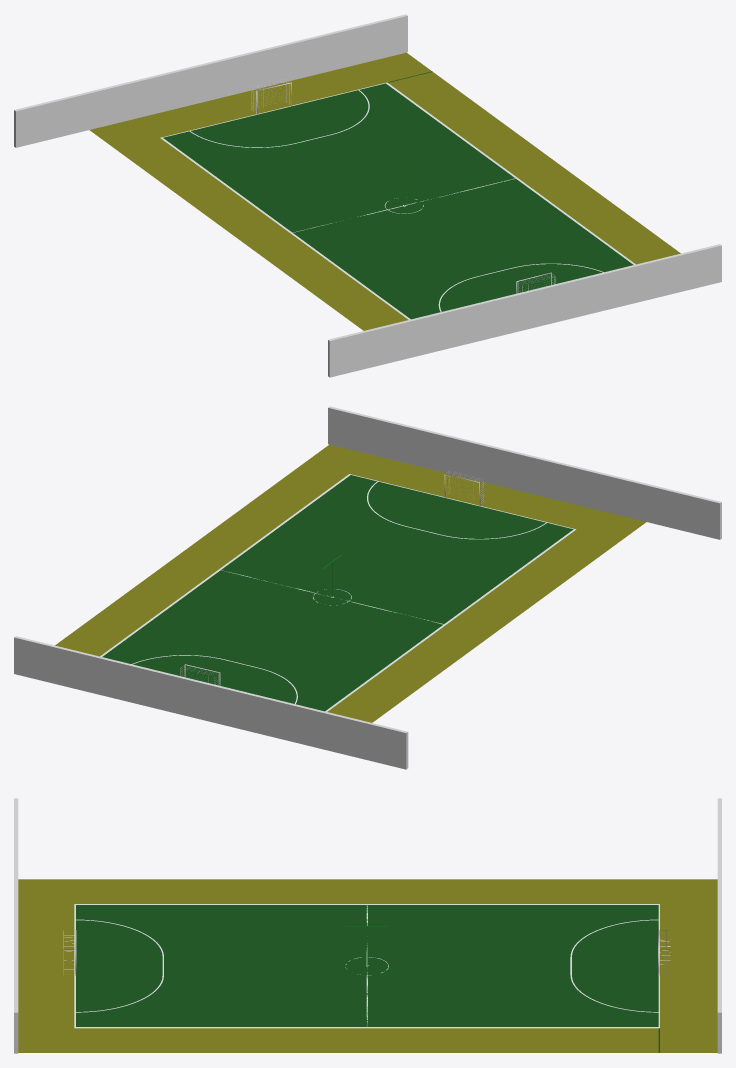
File: deneme1.fbx
3 renders of one model, top to bottom at view 1: azimuth 30°, elevation 25°; view 2: azimuth 150°, elevation 25°; view 3: azimuth 270°, elevation 25°, orthographic. The views are drawn at different scales.
Parts seen in each view (by area): view 1: Floor, Backwall, FrontWall; view 2: Floor, FrontWall, Backwall; view 3: Floor, Backwall, FrontWall.
Part boxes in pixels (left/top/right/bottom): Floor: left=89, top=52, right=680, bottom=330; Backwall: left=328, top=244, right=721, bottom=377; FrontWall: left=14, top=14, right=407, bottom=147; Floor: left=55, top=444, right=646, bottom=722; FrontWall: left=14, top=636, right=408, bottom=769; Backwall: left=328, top=406, right=721, bottom=539; Floor: left=18, top=879, right=717, bottom=1052; Backwall: left=14, top=798, right=18, bottom=1053; FrontWall: left=717, top=798, right=721, bottom=1053.
Size of the model in its own units: 3485 by 332 by 4860.
